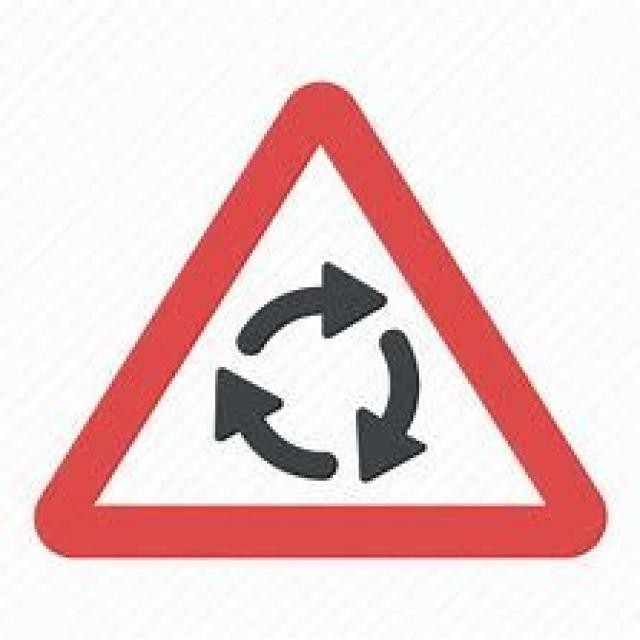ROUNDABOUT: (32, 80, 606, 554)
